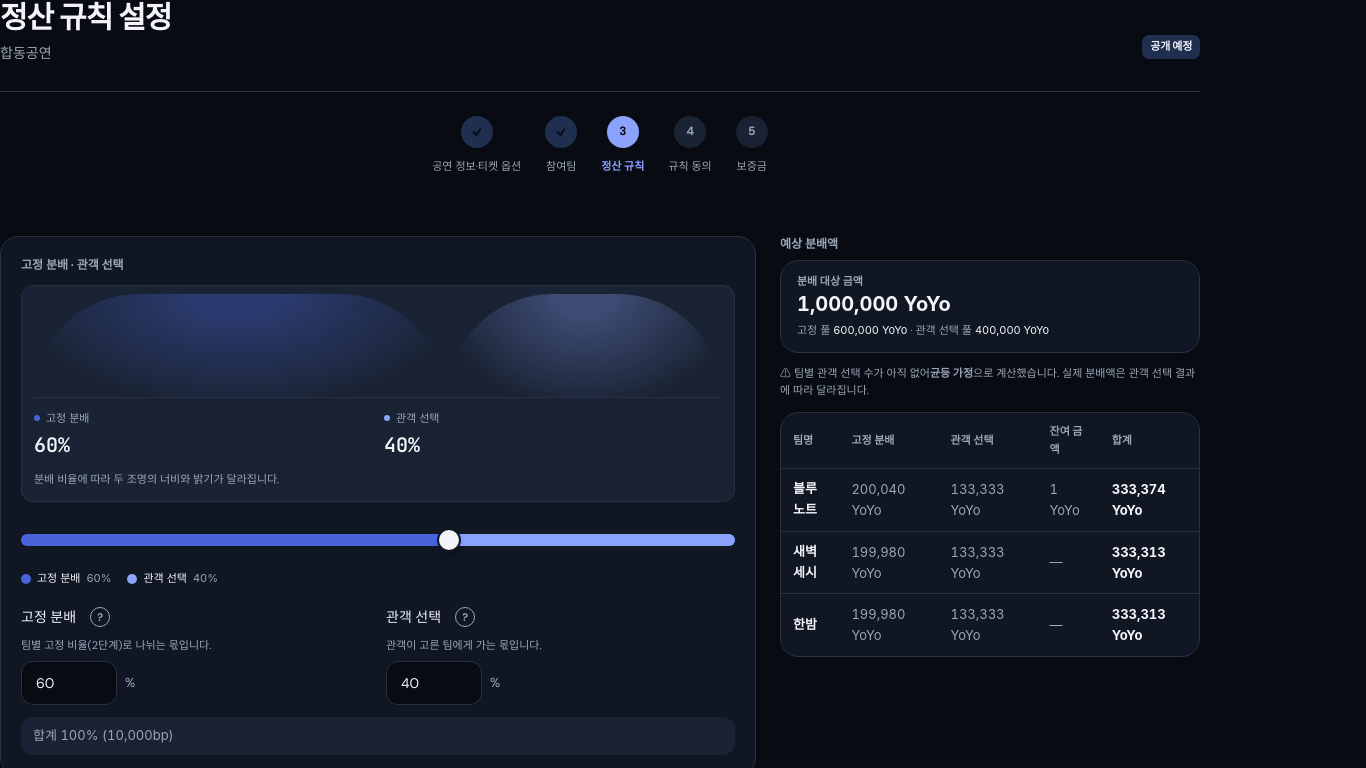
Test: P-05 도움말 모달 › 고정 분배 설명 버튼이 예시 모달을 열고 Esc 로 닫으면 버튼으로 포커스가 돌아온다
Click the button named "고정 분배 설명". click: {"x": 100, "y": 617}
box: top-left (78, 595), bottom-right (122, 639)
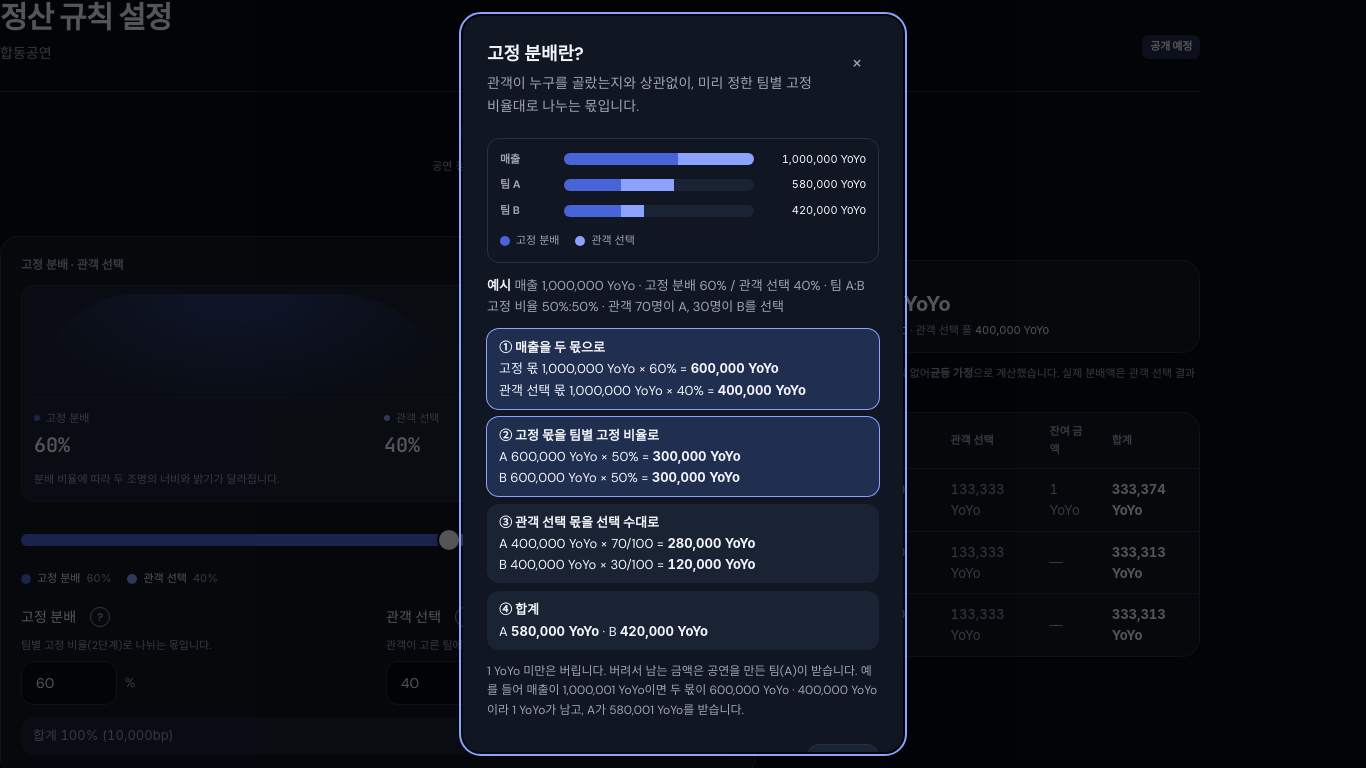
Result: the list item with test id "rule-help-step-1" shows "600,000 YoYo" at top-left (691, 360), bottom-right (779, 376)
Result: the list item with test id "rule-help-step-1" shows "400,000 YoYo" at top-left (718, 382), bottom-right (806, 398)
Result: the list item with test id "rule-help-step-2" shows "300,000 YoYo" at top-left (653, 448), bottom-right (741, 464)
Press Escape
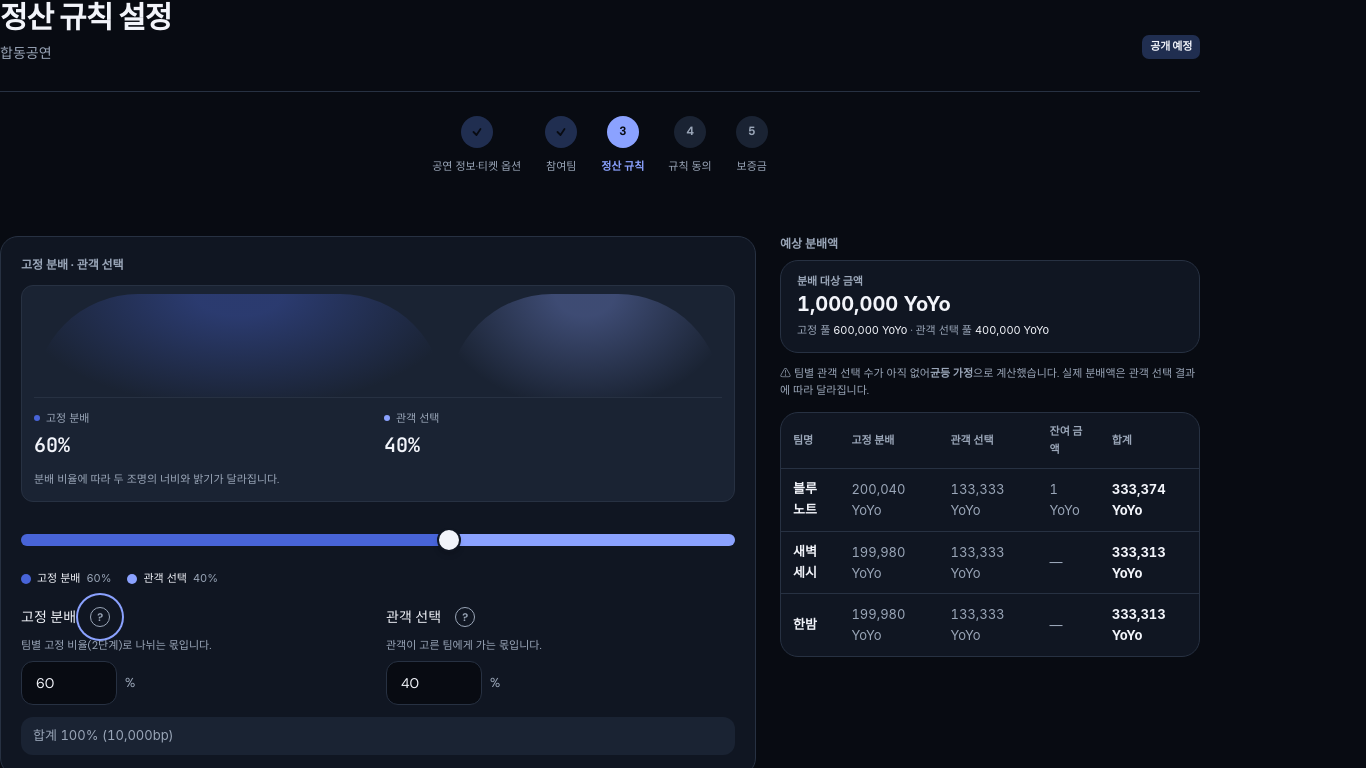
Result: the dialog is gone
